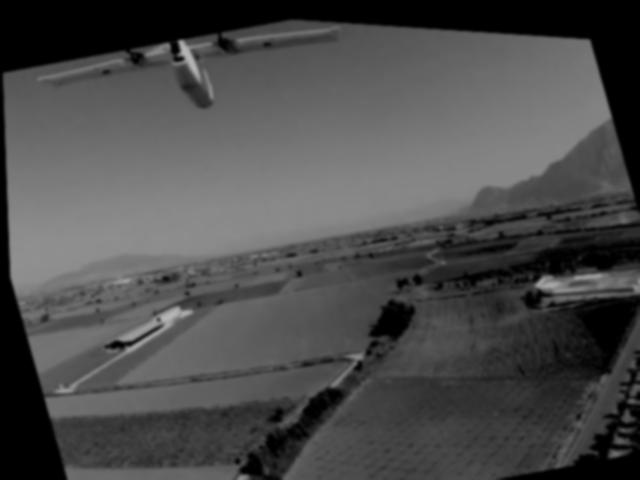hedef: (23, 1, 370, 175)
